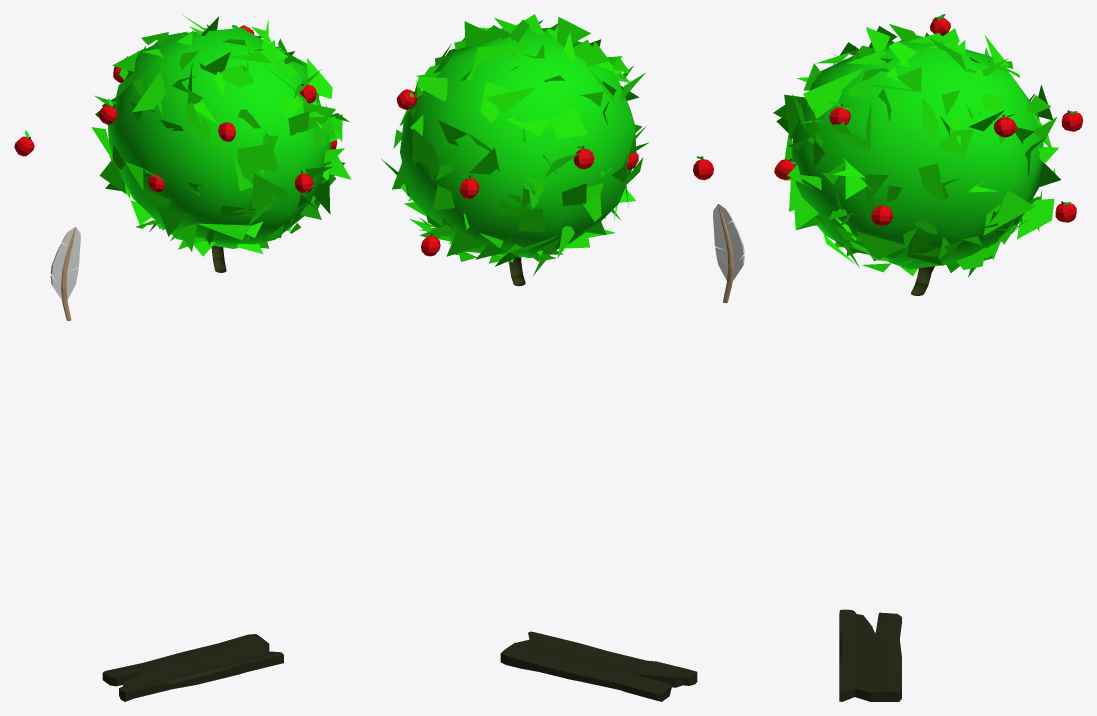
Rendered from Scenery2.fbx.
3 views of the same model, side by side, from view 1: azimuth 30°, elevation 25°; view 2: azimuth 150°, elevation 25°; view 3: azimuth 270°, elevation 25° (orthographic). The views are drawn at different scales.
Parts seen in each view (by area): view 1: Bush, Wood plank, Sphere.009, Low poly feather; view 2: Bush, Wood plank, Low poly feather, Sphere.009; view 3: Bush, Wood plank, Sphere.009.
Part boxes in pixels (left/top/right/bottom): Bush: left=91, top=15, right=351, bottom=272; Wood plank: left=102, top=634, right=283, bottom=701; Sphere.009: left=98, top=25, right=337, bottom=193; Low poly feather: left=50, top=227, right=80, bottom=320; Bush: left=381, top=14, right=649, bottom=286; Wood plank: left=500, top=631, right=697, bottom=701; Low poly feather: left=713, top=204, right=744, bottom=303; Sphere.009: left=396, top=89, right=638, bottom=256; Bush: left=773, top=24, right=1060, bottom=295; Wood plank: left=839, top=609, right=901, bottom=701; Sphere.009: left=774, top=104, right=1082, bottom=225.
Bounding box in the file's own units: 269 × 534 × 231.
